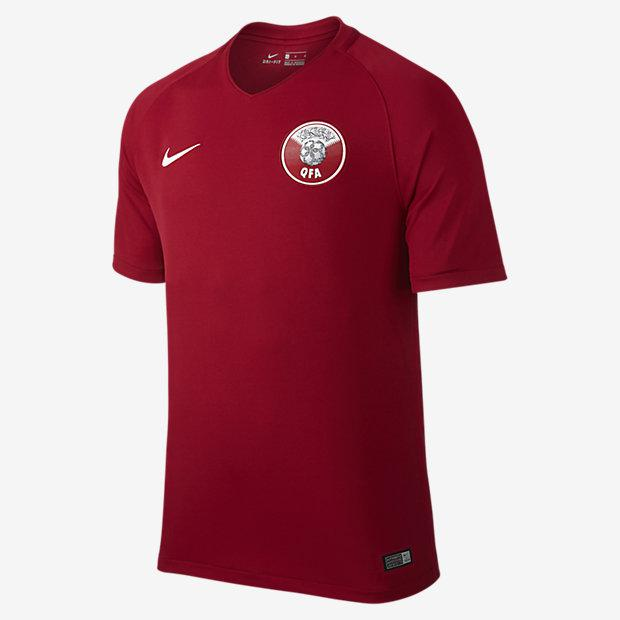teeshirt: (92, 13, 527, 620)
